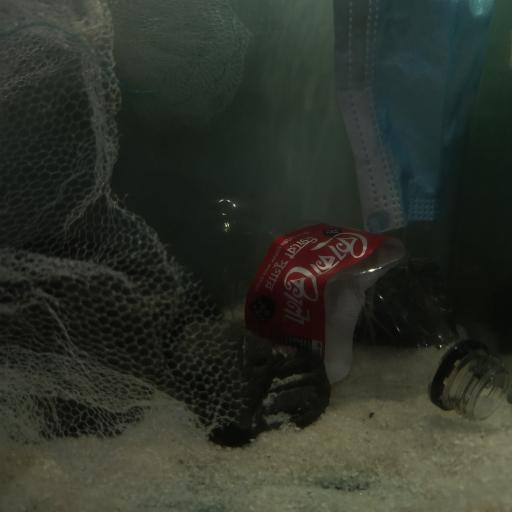mask: (330, 0, 512, 239)
net: (0, 0, 258, 465)
plastic_bottle: (170, 197, 512, 415)
